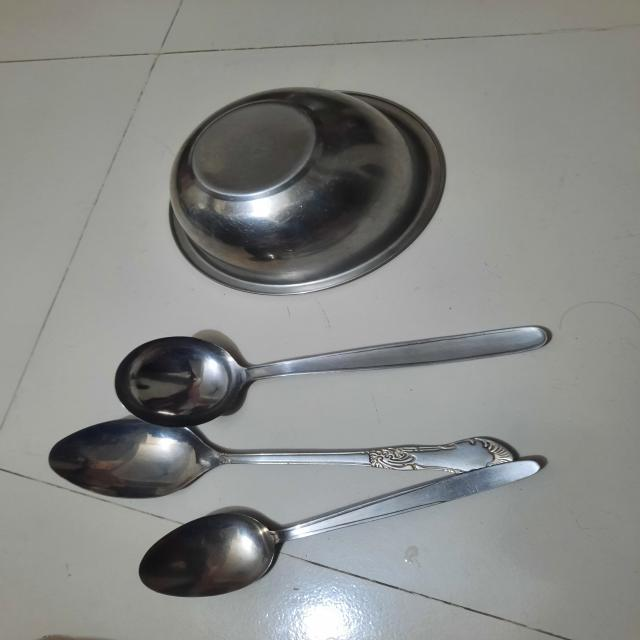Metal: (36, 311, 571, 606), (147, 74, 459, 296)
